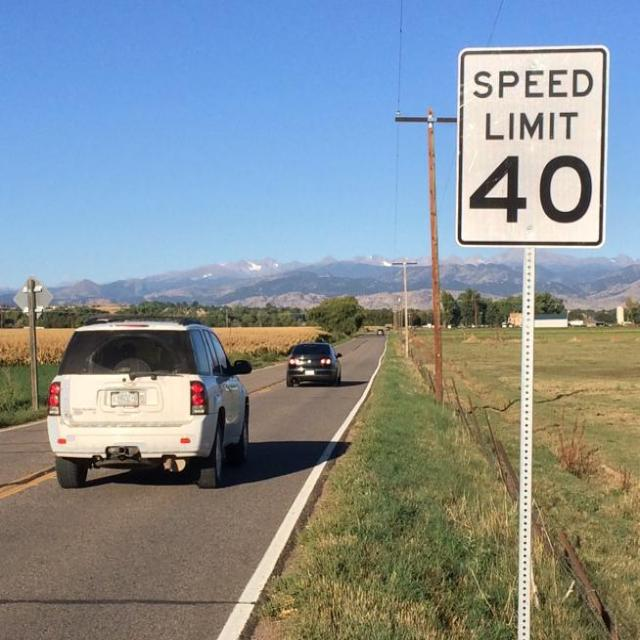speedLimit40: (467, 63, 599, 229)
